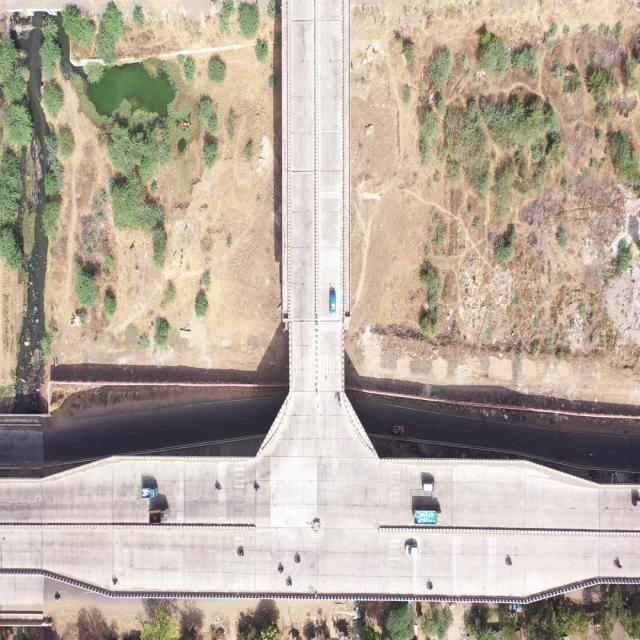3W: (631, 493, 640, 507)
Cars: (403, 538, 422, 564), (326, 282, 338, 322), (421, 475, 440, 498), (389, 419, 406, 440)
LCV: (137, 478, 161, 503), (147, 505, 170, 528)
M2W: (334, 385, 344, 417), (250, 477, 264, 496), (283, 572, 295, 591), (423, 581, 438, 596), (213, 479, 225, 496), (236, 541, 246, 561), (53, 590, 66, 605), (109, 572, 121, 588), (612, 557, 625, 571), (275, 559, 285, 575), (293, 552, 303, 568), (504, 557, 514, 569)
Truck: (411, 503, 445, 528)
